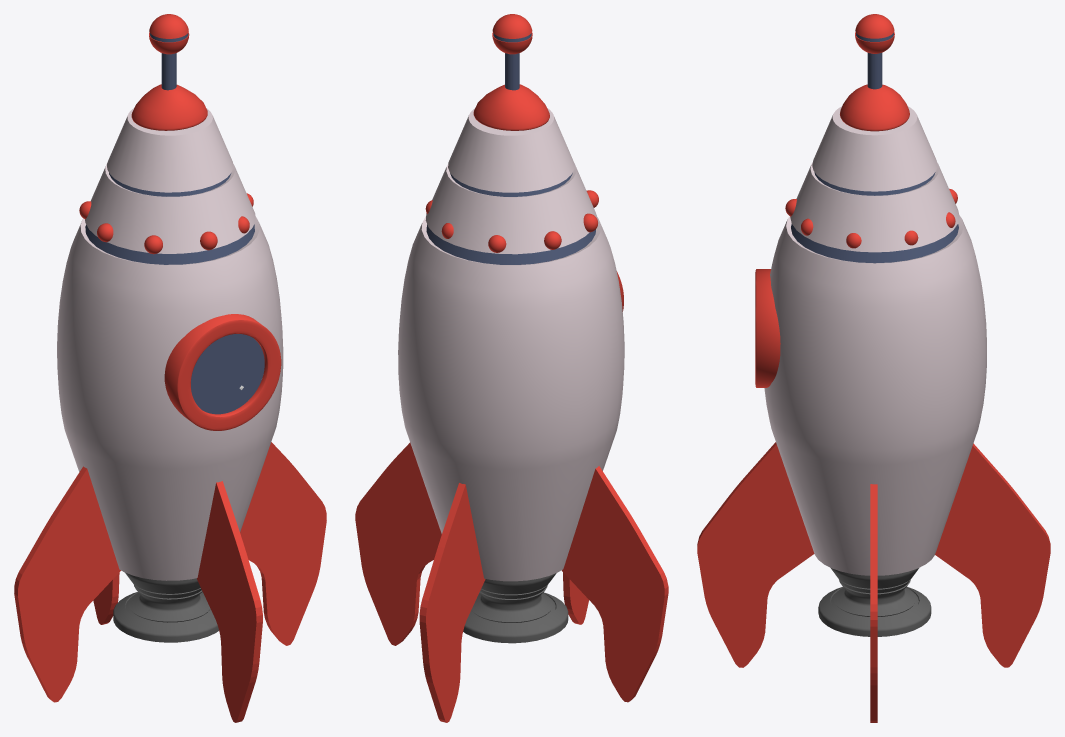
Rendered from rocket.glb.
The picture shows the model from 3 angles, left to right: view 1: azimuth 30°, elevation 25°; view 2: azimuth 150°, elevation 25°; view 3: azimuth 270°, elevation 25°; orthographic projection.
Visible parts, largest first — view 1: Cylinder_Material.001_0, Sphere_red_0, Cylinder_Material.003_0, Cylinder.003_Material.005_0; view 2: Cylinder_Material.001_0, Sphere_red_0, Cylinder.003_Material.005_0, Cylinder_Material.003_0; view 3: Cylinder_Material.001_0, Sphere_red_0, Cylinder.003_Material.005_0, Cylinder_Material.003_0.
Boxes of the visible parts, x1,y1,x2,y2 form: Cylinder_Material.001_0: [57, 108, 283, 580]; Sphere_red_0: [14, 14, 326, 722]; Cylinder_Material.003_0: [85, 33, 264, 414]; Cylinder.003_Material.005_0: [113, 572, 218, 642]; Cylinder_Material.001_0: [398, 108, 624, 581]; Sphere_red_0: [355, 14, 668, 722]; Cylinder.003_Material.005_0: [463, 573, 568, 643]; Cylinder_Material.003_0: [426, 33, 595, 264]; Cylinder_Material.001_0: [764, 106, 986, 575]; Sphere_red_0: [697, 14, 1050, 722]; Cylinder.003_Material.005_0: [818, 568, 931, 636]; Cylinder_Material.003_0: [791, 33, 958, 263].
Size of the model in its own units: 0.3741 by 0.7597 by 0.3741.
